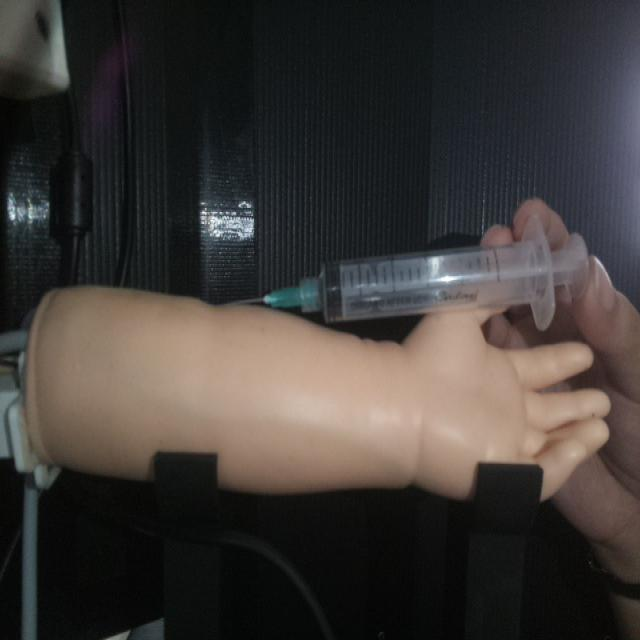Outside: (219, 204, 592, 312)
